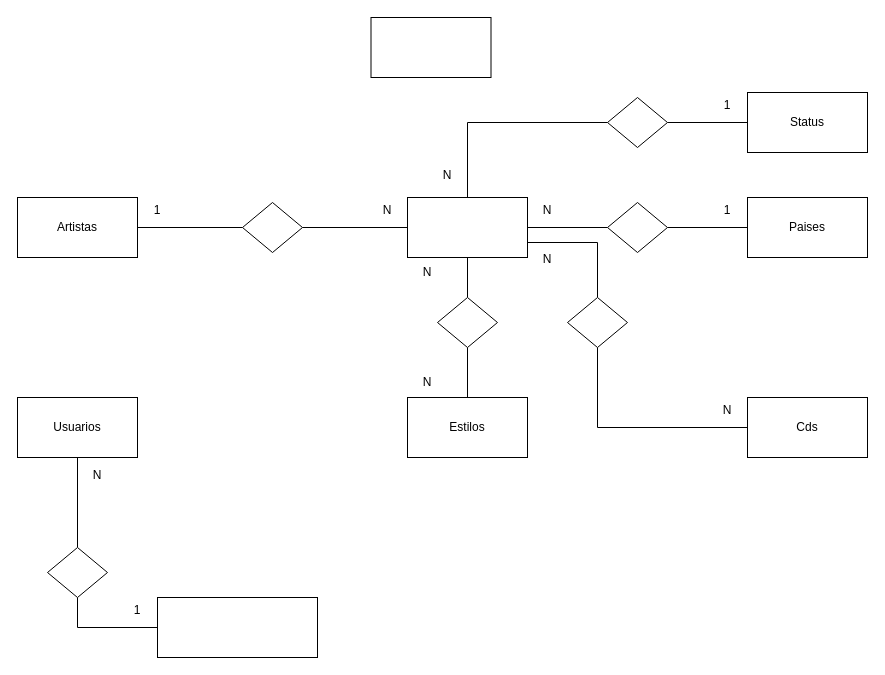
Some shapes in this 885 by 675 pixel diagram are drawn without their labels. The centre of each missing label's shape, as x and y in pixels:
Albuns: the point at 467,227
Conceitual: the point at 430,47
TiposUsuarios: the point at 237,627
